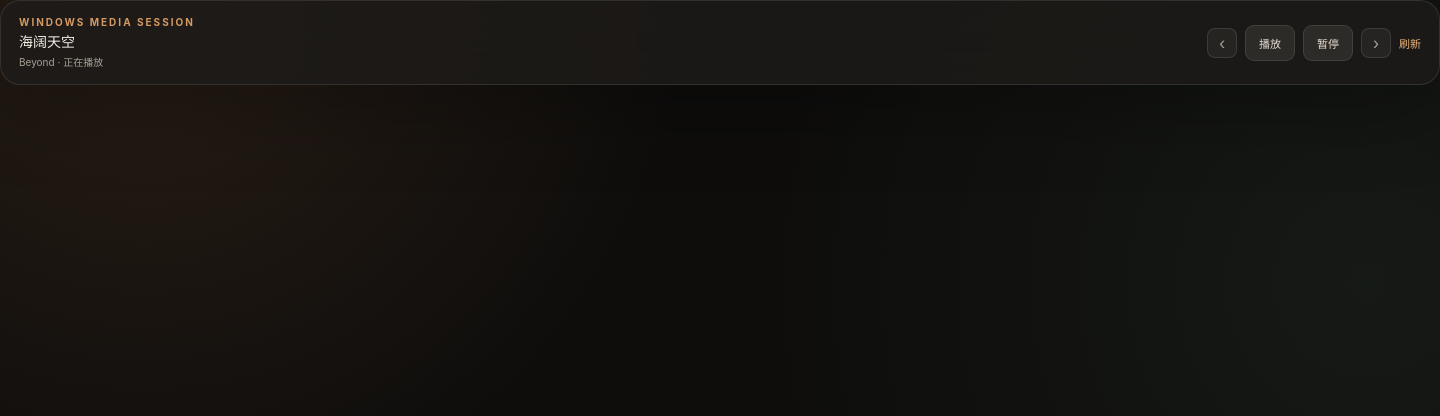
it: NowPlayingPanel › reads the current song and confirms a successful pause
Click the button with test id "media-pause" at (1328, 42), box [1303, 24, 1353, 60]
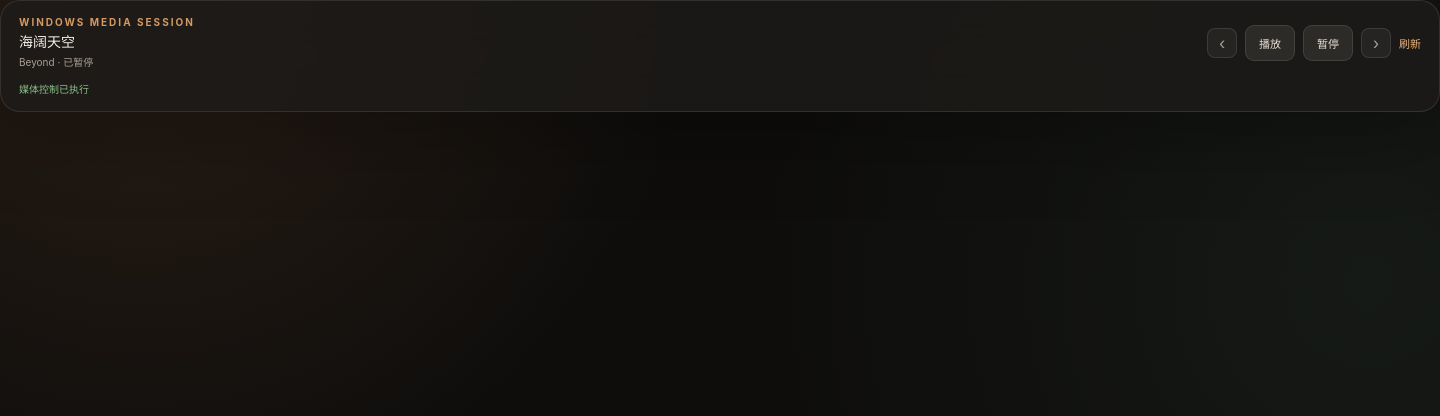
Expected: the text "已暂停" is shown, [19, 56, 93, 68]
Expected: the message "媒体控制已执行" is shown, [19, 83, 89, 95]
